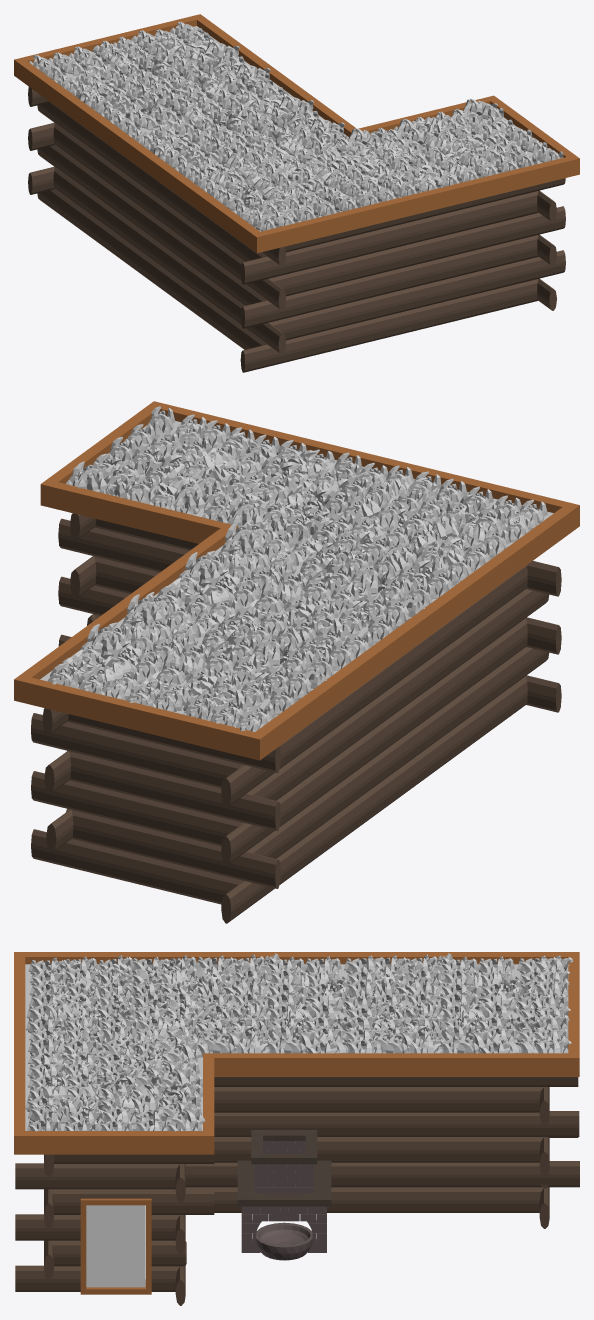
Rendered from viking Stone house.fbx.
3 renders of one model, top to bottom at view 1: azimuth 30°, elevation 25°; view 2: azimuth 150°, elevation 25°; view 3: azimuth 270°, elevation 25°, orthographic. The views are drawn at different scales.
Parts seen in each view (by area): view 1: House; view 2: House; view 3: House, Fdoor.
Boxes of the visible parts, <box> form: House: <box>14,14,579,372</box>; House: <box>14,401,579,923</box>; House: <box>14,952,579,1305</box>; Fdoor: <box>86,1205,145,1287</box>.
Bounding box in the file's own units: 1532 × 711 × 1995.
